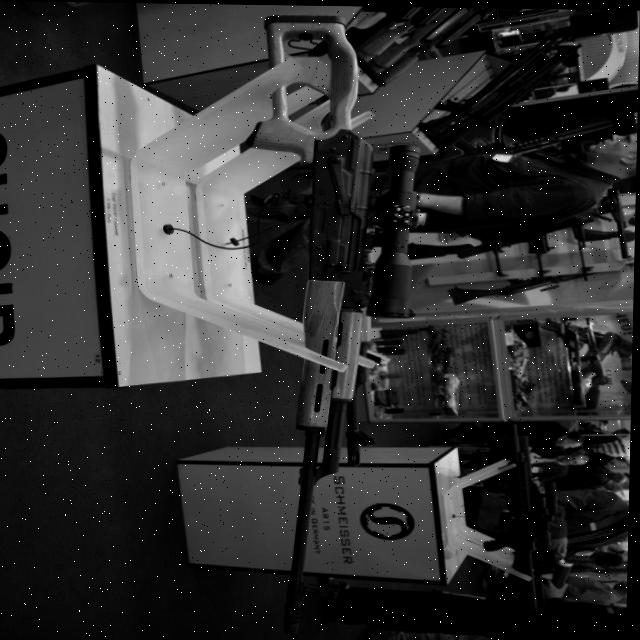firearm: (240, 13, 425, 633), (422, 23, 572, 135), (484, 419, 558, 611), (444, 115, 614, 169), (448, 269, 588, 302), (574, 320, 616, 409), (604, 191, 636, 257), (565, 217, 598, 265)
